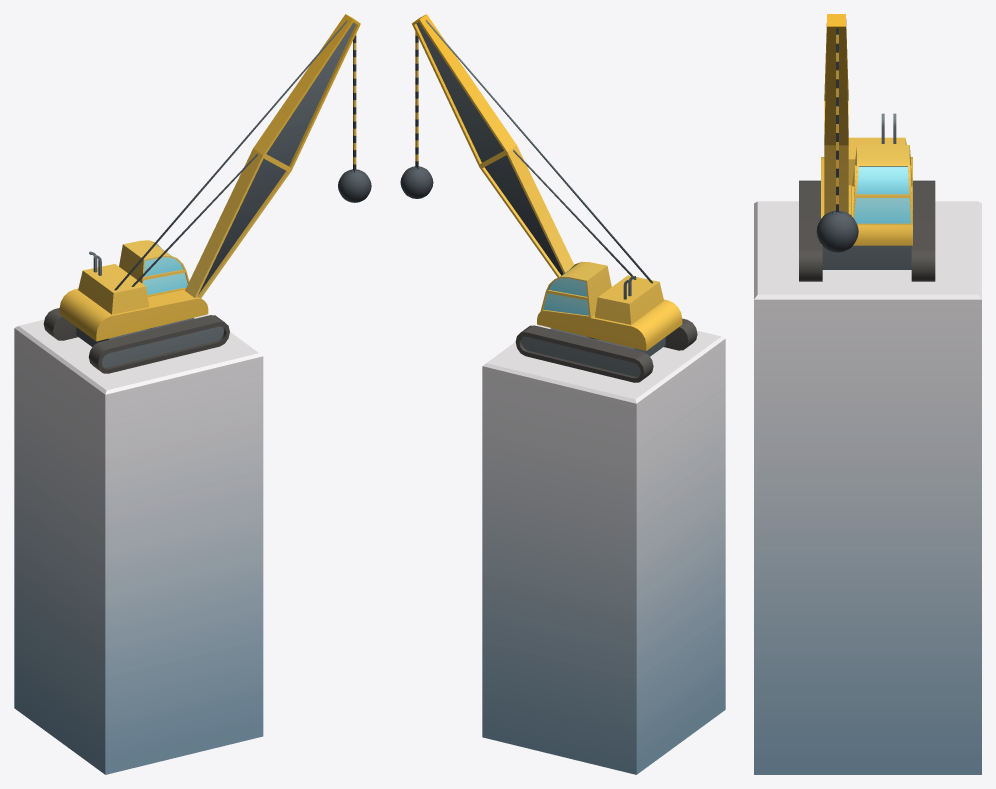
File: Wrecking_Ball_Crane_Base.fbx
The picture shows the model from 3 angles, left to right: view 1: azimuth 30°, elevation 25°; view 2: azimuth 150°, elevation 25°; view 3: azimuth 270°, elevation 25°; orthographic projection. The views are drawn at different scales.
Parts seen in each view (by area): view 1: Wrecking_Ball_Crane_Base, Wrecking_Ball_Crane, Ball; view 2: Wrecking_Ball_Crane_Base, Wrecking_Ball_Crane, Ball; view 3: Wrecking_Ball_Crane_Base, Wrecking_Ball_Crane, Ball.
Boxes of the visible parts, <box> form: Wrecking_Ball_Crane_Base: <box>14,314,263,774</box>; Wrecking_Ball_Crane: <box>43,14,360,373</box>; Ball: <box>338,34,371,202</box>; Wrecking_Ball_Crane_Base: <box>482,325,725,774</box>; Wrecking_Ball_Crane: <box>412,14,697,382</box>; Ball: <box>400,32,433,198</box>; Wrecking_Ball_Crane_Base: <box>754,201,981,774</box>; Wrecking_Ball_Crane: <box>799,14,935,281</box>; Ball: <box>816,28,858,252</box>.
Size of the model in its own units: 2189 by 4690 by 1162.
